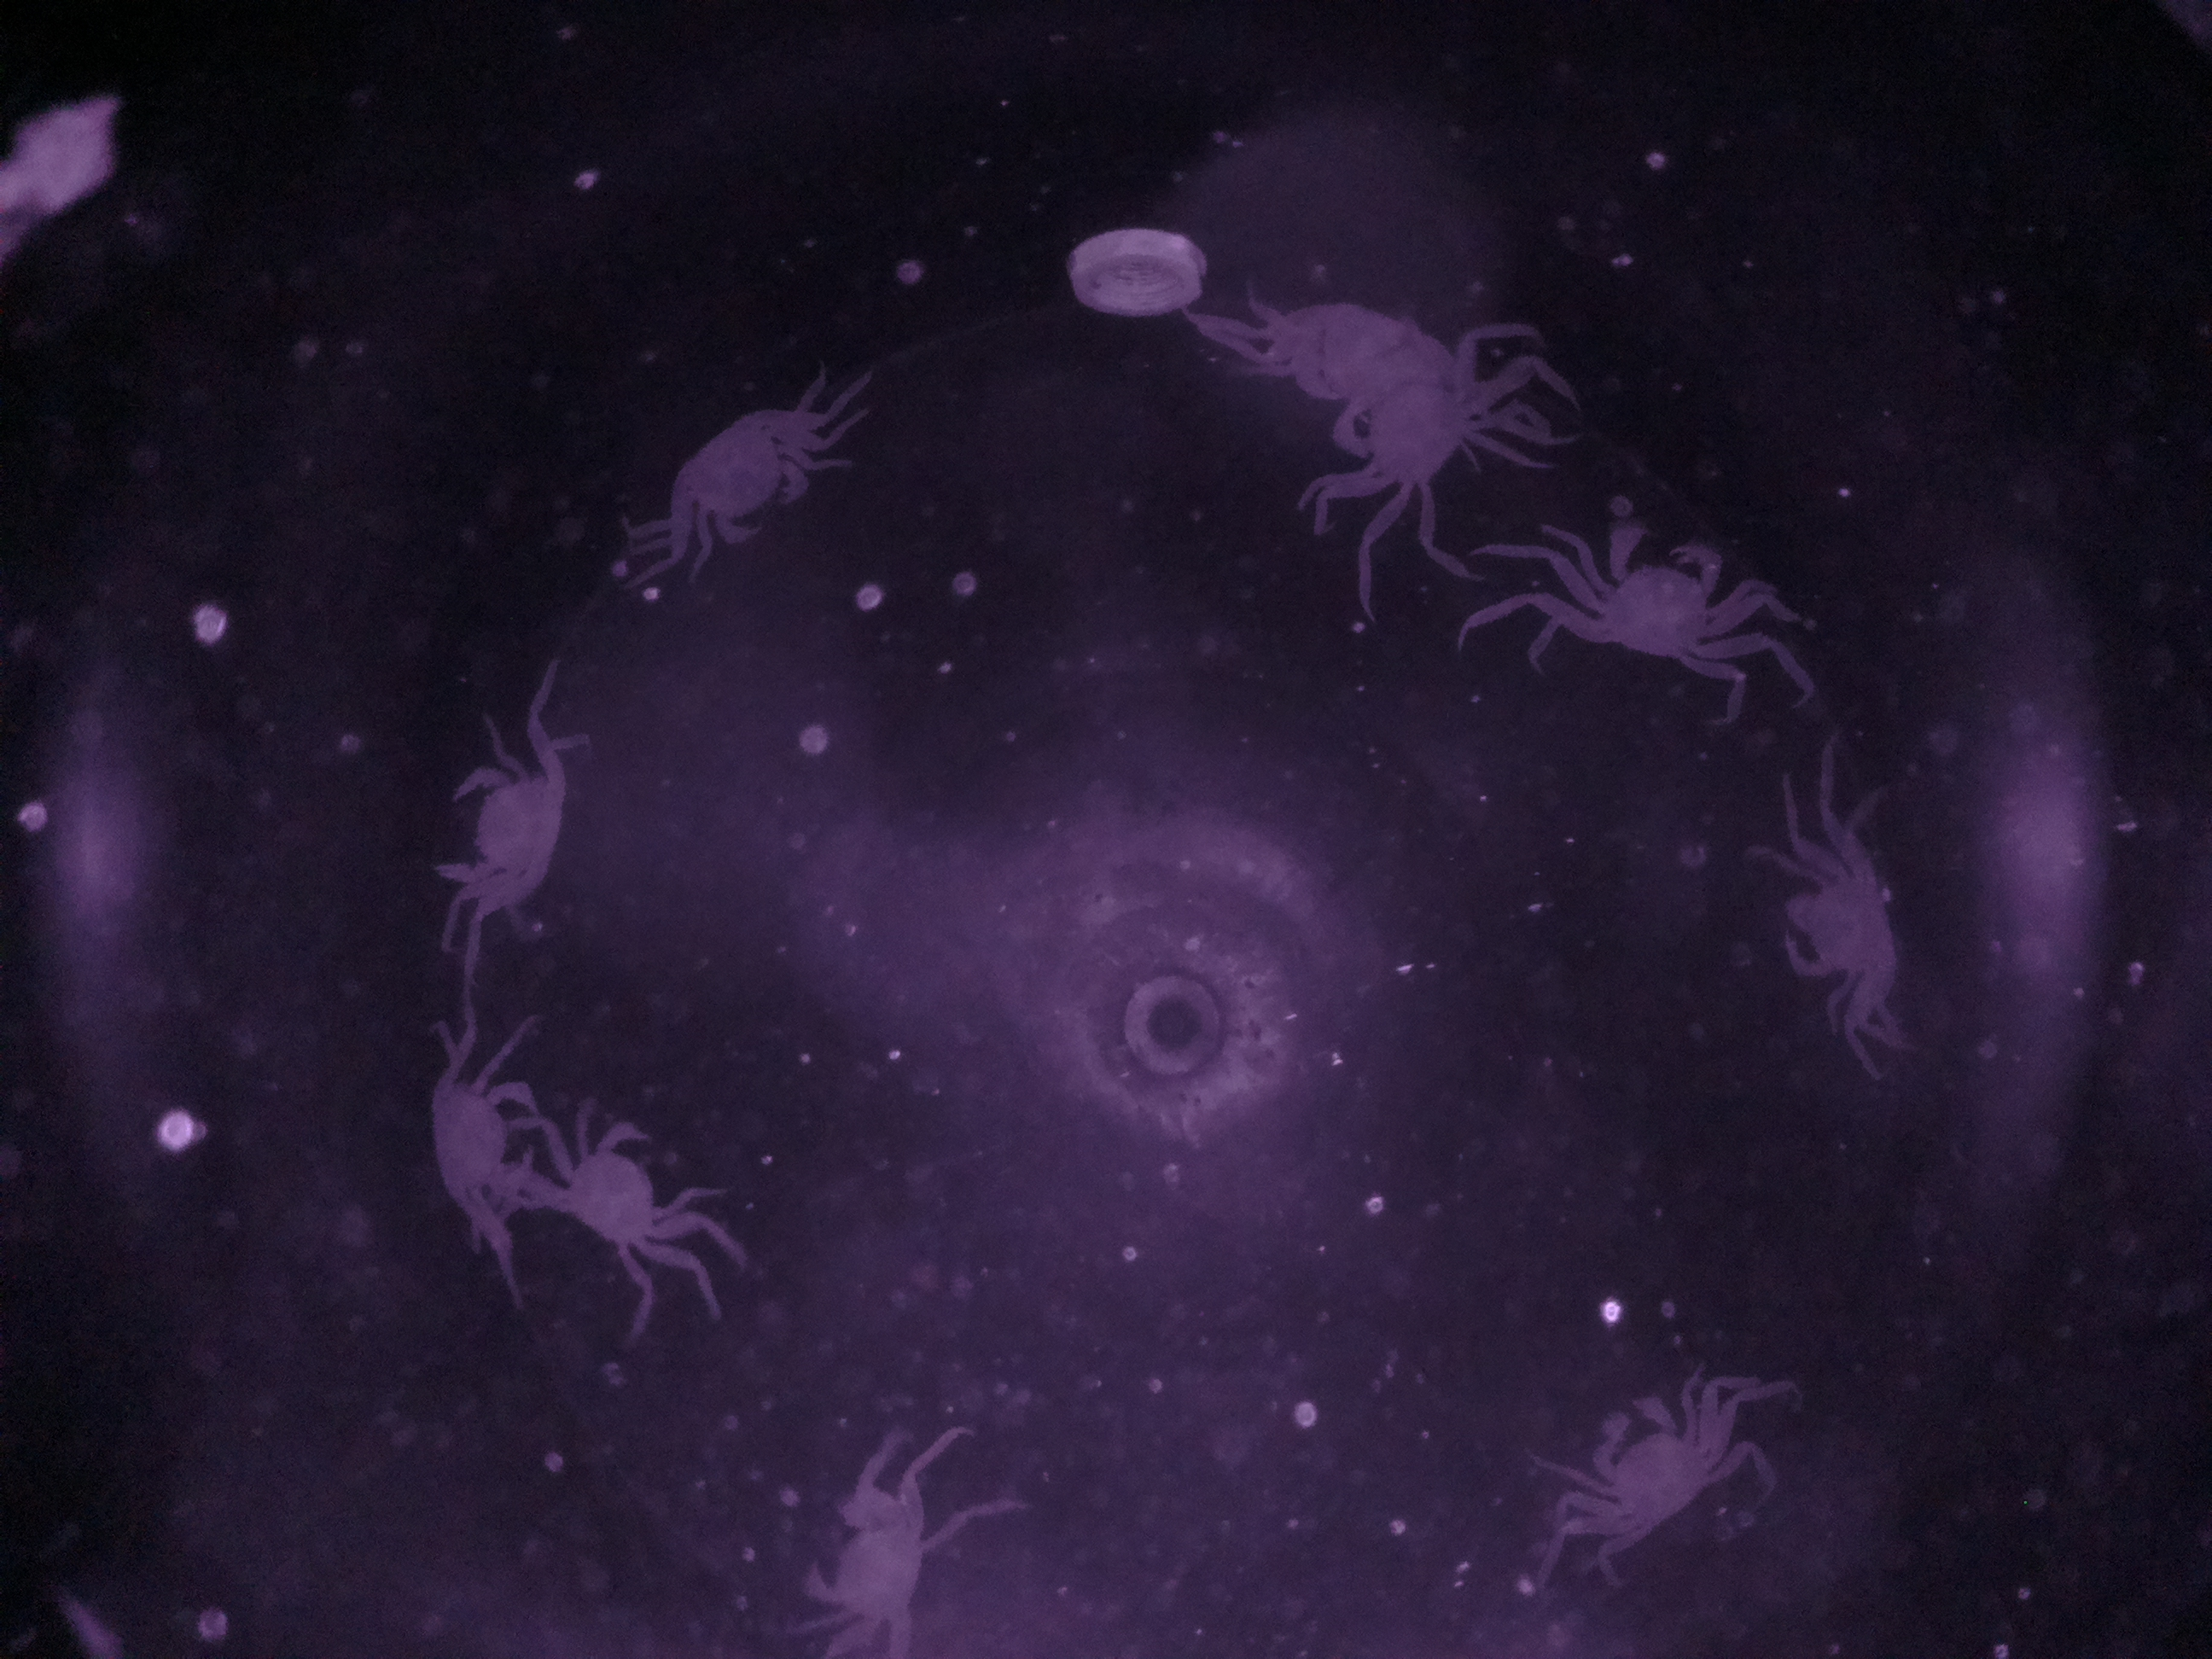Crab: (524, 1077, 693, 1298), (420, 718, 594, 925), (1557, 507, 1768, 671), (1561, 1361, 1731, 1561), (655, 390, 840, 573), (413, 1016, 531, 1249)
